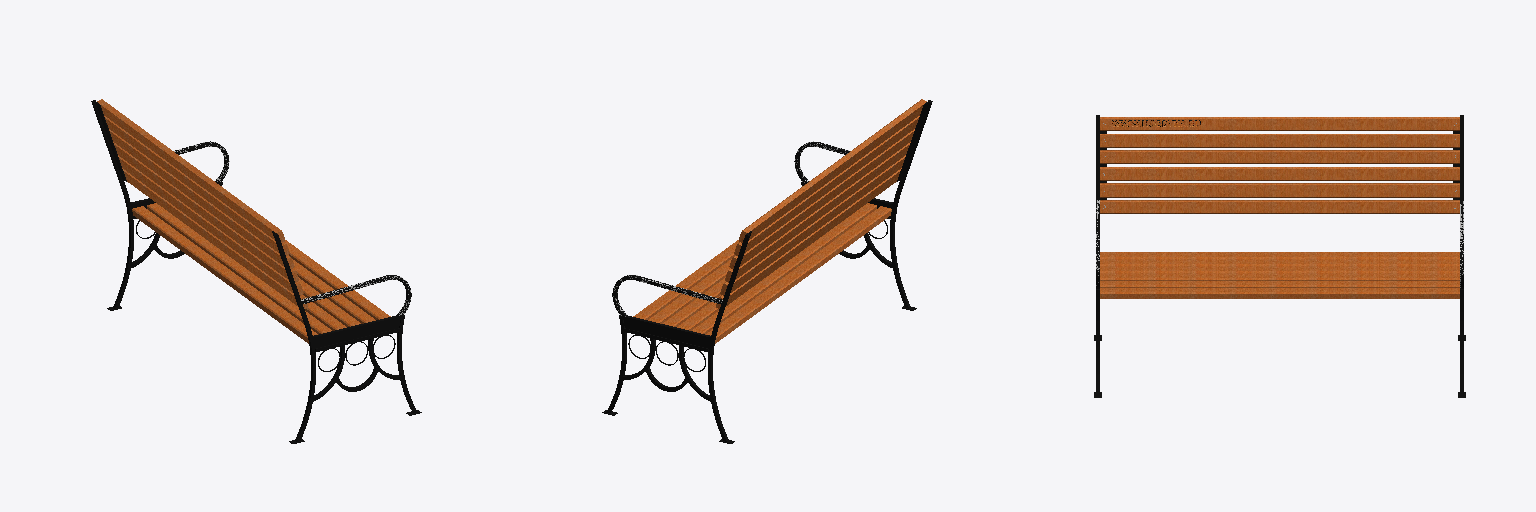
3 views of the same model, side by side, from view 1: azimuth 30°, elevation 25°; view 2: azimuth 150°, elevation 25°; view 3: azimuth 270°, elevation 25° (orthographic).
Parts seen in each view (by area): view 1: mesh3.001_mesh3-geometry, mesh1.001_mesh1-geometry, mesh3.002_mesh3-geometry, mesh1.005_mesh1-geometry, mesh1.003_mesh1-geometry, mesh1.002_mesh1-geometry, mesh1.004_mesh1-geometry, mesh1.006_mesh1-geometry, mesh22.001_mesh22-geometry, mesh36.001_mesh36-geometry, mesh3.006_mesh3-geometry, mesh12.001_mesh12-geometry (+4 smaller); view 2: mesh3.001_mesh3-geometry, mesh1.001_mesh1-geometry, mesh3.002_mesh3-geometry, mesh1.005_mesh1-geometry, mesh1.003_mesh1-geometry, mesh1.002_mesh1-geometry, mesh1.004_mesh1-geometry, mesh1.006_mesh1-geometry, mesh46.001_mesh46-geometry, mesh12.001_mesh12-geometry, mesh3.006_mesh3-geometry, mesh36.001_mesh36-geometry (+4 smaller); view 3: mesh1.005_mesh1-geometry, mesh1.006_mesh1-geometry, mesh1.004_mesh1-geometry, mesh1.003_mesh1-geometry, mesh1.002_mesh1-geometry, mesh1.001_mesh1-geometry, mesh3.006_mesh3-geometry, mesh3.004_mesh3-geometry, mesh3.005_mesh3-geometry, mesh3.003_mesh3-geometry, mesh3.002_mesh3-geometry, mesh3.001_mesh3-geometry.
Part boxes in pixels (bbox=[...]): mesh3.001_mesh3-geometry: bbox=[132, 206, 317, 343]; mesh1.001_mesh1-geometry: bbox=[97, 99, 284, 242]; mesh3.002_mesh3-geometry: bbox=[147, 203, 331, 334]; mesh1.005_mesh1-geometry: bbox=[118, 155, 303, 295]; mesh1.003_mesh1-geometry: bbox=[109, 129, 294, 268]; mesh1.002_mesh1-geometry: bbox=[104, 116, 289, 255]; mesh1.004_mesh1-geometry: bbox=[113, 142, 298, 282]; mesh1.006_mesh1-geometry: bbox=[122, 168, 307, 308]; mesh22.001_mesh22-geometry: bbox=[313, 316, 401, 351]; mesh36.001_mesh36-geometry: bbox=[91, 100, 133, 308]; mesh3.006_mesh3-geometry: bbox=[285, 240, 390, 319]; mesh12.001_mesh12-geometry: bbox=[272, 231, 315, 441]; mesh3.001_mesh3-geometry: bbox=[706, 206, 891, 343]; mesh1.001_mesh1-geometry: bbox=[739, 99, 926, 242]; mesh3.002_mesh3-geometry: bbox=[692, 203, 876, 334]; mesh1.005_mesh1-geometry: bbox=[720, 155, 905, 295]; mesh1.003_mesh1-geometry: bbox=[729, 129, 914, 268]; mesh1.002_mesh1-geometry: bbox=[734, 116, 919, 255]; mesh1.004_mesh1-geometry: bbox=[725, 142, 910, 282]; mesh1.006_mesh1-geometry: bbox=[716, 168, 901, 308]; mesh46.001_mesh46-geometry: bbox=[622, 316, 710, 351]; mesh12.001_mesh12-geometry: bbox=[890, 100, 932, 308]; mesh3.006_mesh3-geometry: bbox=[633, 240, 738, 319]; mesh36.001_mesh36-geometry: bbox=[708, 231, 751, 441]; mesh1.005_mesh1-geometry: bbox=[1100, 183, 1459, 197]; mesh1.006_mesh1-geometry: bbox=[1100, 200, 1459, 213]; mesh1.004_mesh1-geometry: bbox=[1100, 167, 1459, 180]; mesh1.003_mesh1-geometry: bbox=[1100, 150, 1459, 163]; mesh1.002_mesh1-geometry: bbox=[1100, 134, 1459, 147]; mesh1.001_mesh1-geometry: bbox=[1100, 117, 1459, 130]; mesh3.006_mesh3-geometry: bbox=[1100, 288, 1459, 298]; mesh3.004_mesh3-geometry: bbox=[1100, 273, 1459, 280]; mesh3.005_mesh3-geometry: bbox=[1100, 281, 1459, 287]; mesh3.003_mesh3-geometry: bbox=[1100, 266, 1459, 272]; mesh3.002_mesh3-geometry: bbox=[1100, 259, 1459, 265]; mesh3.001_mesh3-geometry: bbox=[1100, 252, 1459, 258].
Bounding box in the file's own units: 0.3571 × 0.5008 × 0.7884.
5 materials, 2 textured.